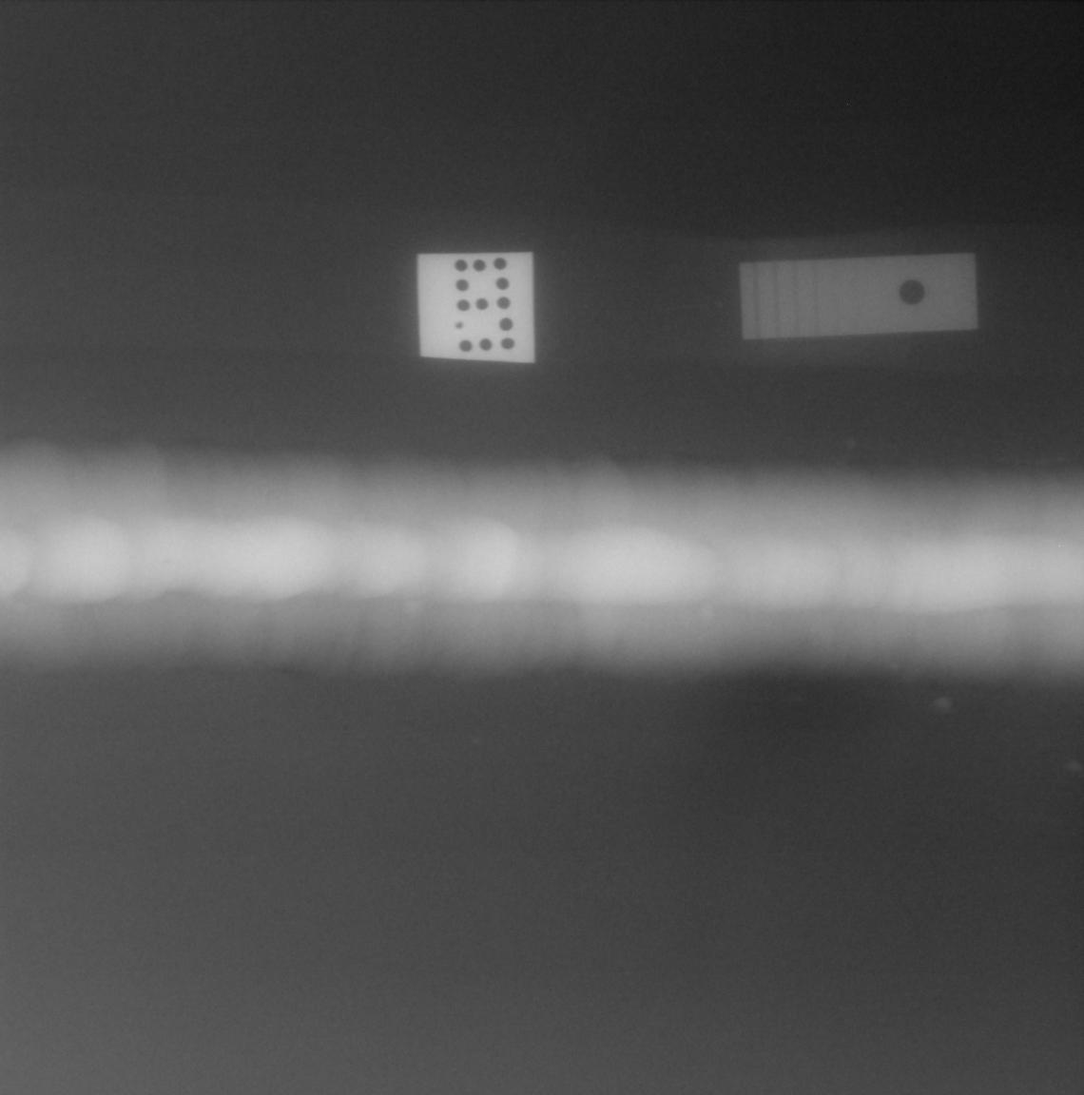Pore/Porosity: (165, 560, 170, 563)
Reference Standard 1: (738, 252, 978, 339)
